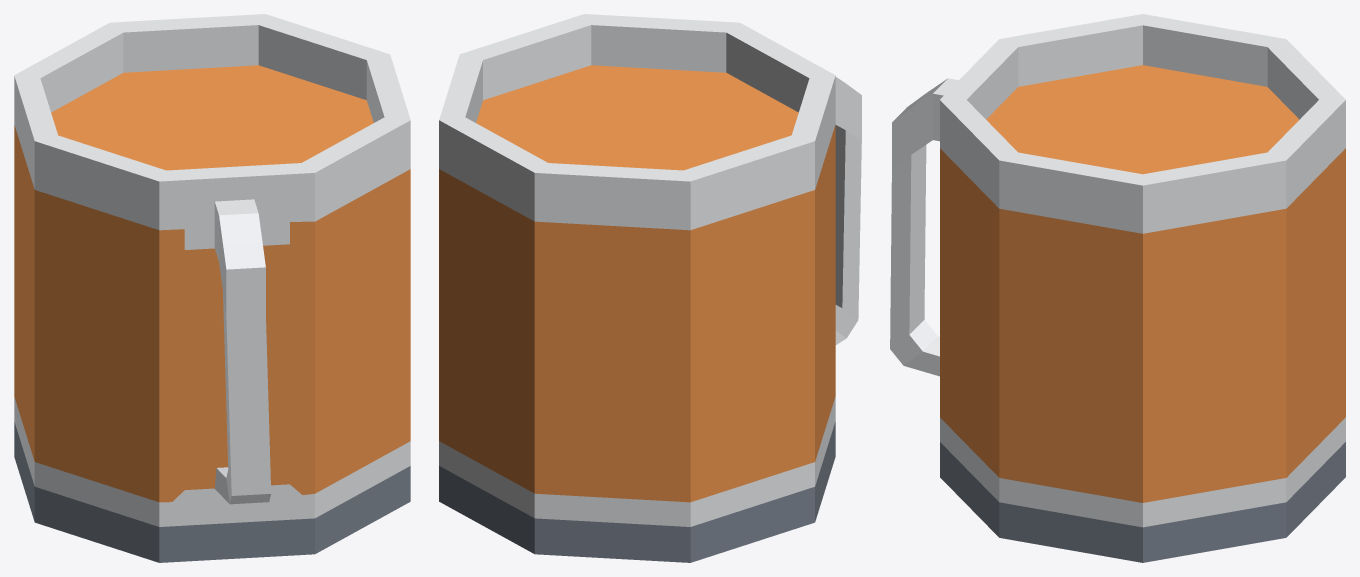
File: Beer.fbx
The picture shows the model from 3 angles, left to right: view 1: azimuth 30°, elevation 25°; view 2: azimuth 150°, elevation 25°; view 3: azimuth 270°, elevation 25°; orthographic projection.
Parts seen in each view (by area): view 1: Cube.001; view 2: Cube.001; view 3: Cube.001.
Part boxes in pixels (box(x1,y1,x2,y2)): Cube.001: box(14, 14, 410, 562); Cube.001: box(439, 14, 861, 562); Cube.001: box(890, 14, 1345, 562).
Bounding box in the file's own units: 166 × 170 × 186.
Materials: 1 (1 with a texture image).
